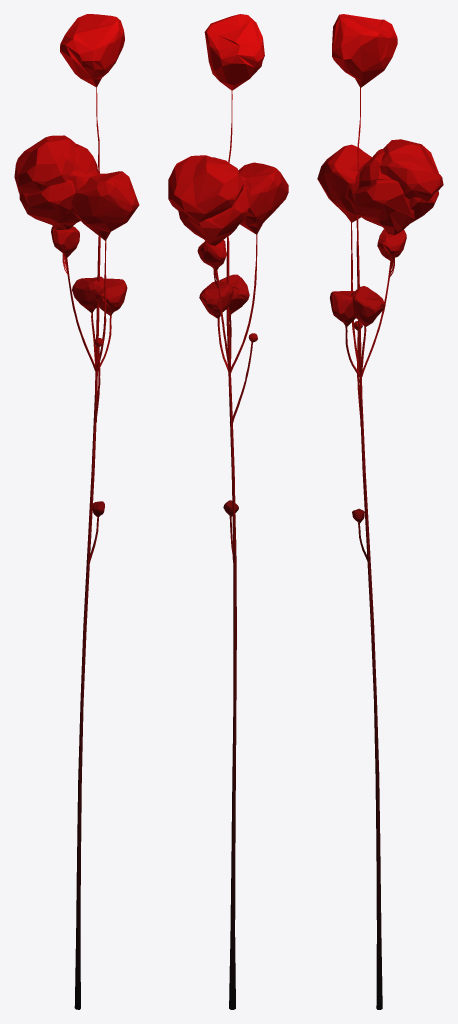
The model's file is TreeBirchTall02.fbx.
3 views of the same model, side by side, from view 1: azimuth 90°, elevation 25°; view 2: azimuth 150°, elevation 25°; view 3: azimuth 270°, elevation 25° (orthographic).
Visible parts, largest first — view 1: TreeBirchTall02_LOD0; view 2: TreeBirchTall02_LOD0; view 3: TreeBirchTall02_LOD0.
Part boxes in pixels (box(x1,y1,x2,y2)): TreeBirchTall02_LOD0: box(14, 14, 139, 1009); TreeBirchTall02_LOD0: box(168, 14, 288, 1009); TreeBirchTall02_LOD0: box(317, 14, 443, 1009).
Size of what is drawn, in the model's own units: 297 by 3387 by 389.
